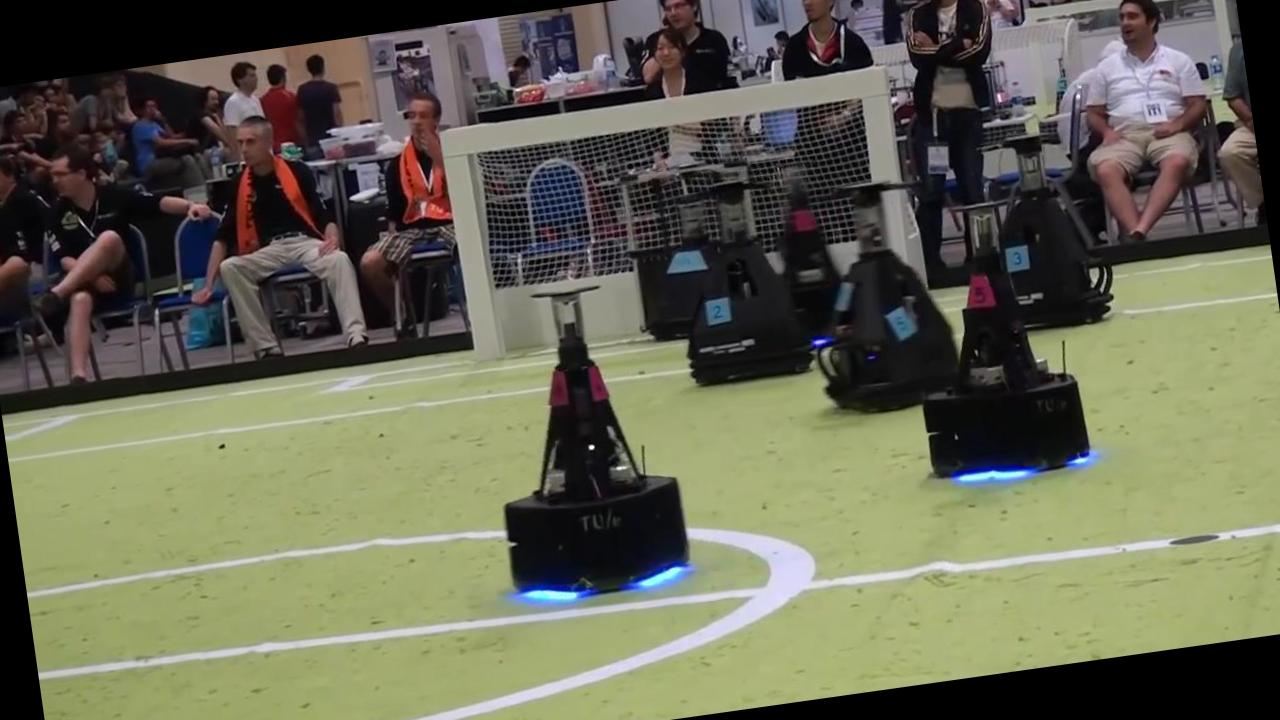goal: (443, 131, 503, 360)
robot: (504, 289, 688, 591), (923, 202, 1089, 477), (817, 182, 958, 412), (687, 182, 811, 384), (620, 162, 745, 340), (1001, 133, 1112, 326), (779, 174, 839, 337)
